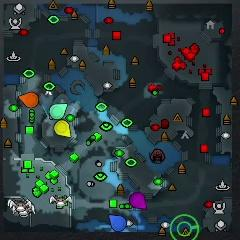p1: (108, 213, 126, 232)
p2: (50, 103, 68, 119)
p3: (129, 192, 146, 209)
p4: (54, 119, 71, 138)
p5: (19, 91, 39, 108)
